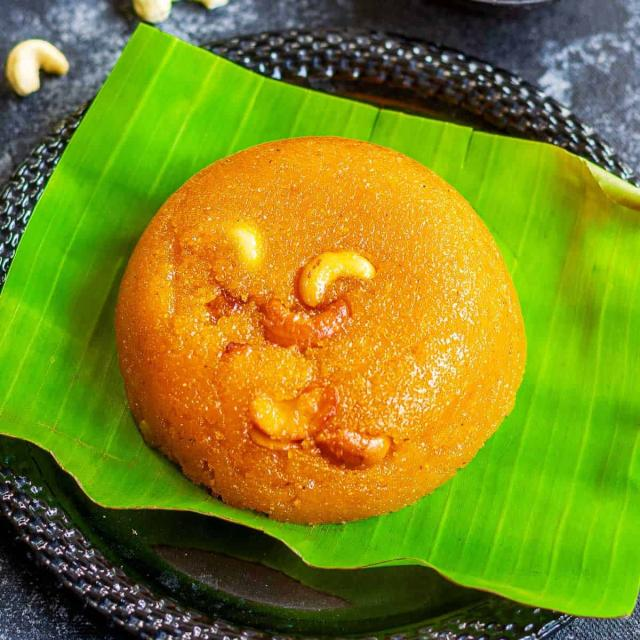kesari bath: (105, 119, 549, 547)
